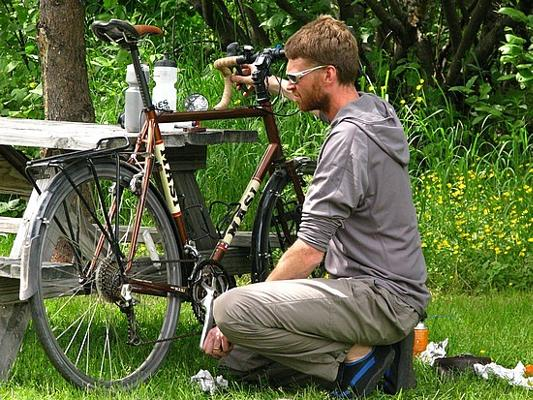person: (197, 15, 434, 399)
